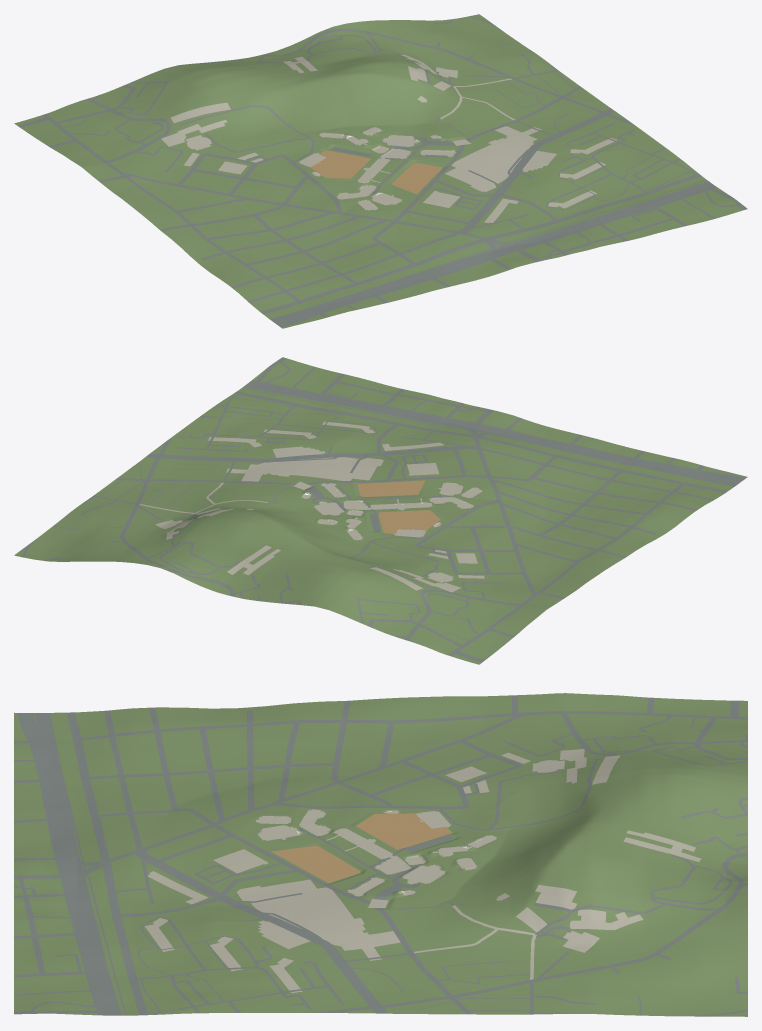
3 views of the same model, one above another, from view 1: azimuth 30°, elevation 25°; view 2: azimuth 150°, elevation 25°; view 3: azimuth 270°, elevation 25° (orthographic). The views are drawn at different scales.
Visible parts, largest first — view 1: surface_ground, surface_osm-road-1442402564, surface_context-yard-osm-478278338, surface_osm-road-1442405325, surface_osm-road-772908909, surface_osm-road-236562425, surface_osm-road-488371330, surface_northwest-earth-court, surface_osm-road-37401295, surface_south-earth-field, surface_osm-road-37401862, surface_osm-road-37401839 (+1 smaller); view 2: surface_ground, surface_osm-road-1442402564, surface_context-yard-osm-478278338, surface_osm-road-1442405325, surface_osm-road-772908909, surface_osm-road-488371330, surface_osm-road-236562425, surface_northwest-earth-court, surface_osm-road-37401295, surface_osm-road-37401862, surface_south-earth-field, surface_osm-road-37401839 (+1 smaller); view 3: surface_ground, surface_osm-road-1442402564, surface_context-yard-osm-478278338, surface_osm-road-1442405325, surface_osm-road-772908909, surface_osm-road-488371330, surface_osm-road-236562425, surface_northwest-earth-court, surface_osm-road-37401295, surface_south-earth-field, surface_osm-road-37401862, surface_context-yard-osm-659904051 (+15 smaller).
Boxes of the visible parts, box(x1,y1,x2,y2) form: surface_ground: box(14, 14, 746, 328); surface_osm-road-1442402564: box(276, 183, 716, 327); surface_context-yard-osm-478278338: box(451, 126, 541, 183); surface_osm-road-1442405325: box(269, 181, 710, 323); surface_osm-road-772908909: box(260, 173, 701, 314); surface_osm-road-236562425: box(42, 114, 486, 239); surface_osm-road-488371330: box(457, 108, 614, 232); surface_northwest-earth-court: box(307, 150, 370, 178); surface_osm-road-37401295: box(258, 28, 636, 126); surface_south-earth-field: box(391, 163, 442, 194); surface_osm-road-37401862: box(393, 86, 581, 221); surface_osm-road-37401839: box(248, 232, 459, 302); surface_ground: box(14, 358, 747, 664); surface_osm-road-1442402564: box(246, 380, 746, 481); surface_context-yard-osm-478278338: box(226, 457, 358, 481); surface_osm-road-1442405325: box(243, 385, 739, 486); surface_osm-road-772908909: box(234, 391, 728, 492); surface_osm-road-488371330: box(146, 445, 477, 462); surface_osm-road-236562425: box(448, 437, 536, 656); surface_northwest-earth-court: box(378, 510, 440, 533); surface_osm-road-37401295: box(120, 437, 235, 596); surface_osm-road-37401862: box(115, 475, 489, 485); surface_south-earth-field: box(357, 480, 425, 496); surface_osm-road-37401839: box(478, 447, 714, 500); surface_ground: box(14, 693, 747, 1016); surface_osm-road-1442402564: box(17, 713, 113, 1015); surface_context-yard-osm-478278338: box(251, 887, 400, 960); surface_osm-road-1442405325: box(35, 713, 121, 1015); surface_osm-road-772908909: box(66, 712, 147, 1015); surface_osm-road-488371330: box(135, 850, 388, 1013); surface_osm-road-236562425: box(106, 711, 747, 863); surface_northwest-earth-court: box(356, 813, 451, 849); surface_osm-road-37401295: box(316, 852, 747, 1012); surface_south-earth-field: box(272, 845, 360, 882); surface_osm-road-37401862: box(211, 824, 472, 1014); surface_context-yard-osm-659904051: box(570, 909, 643, 930).
Bounding box in the file's own units: 840 × 67.91 × 840.
4 materials, 4 textured.
